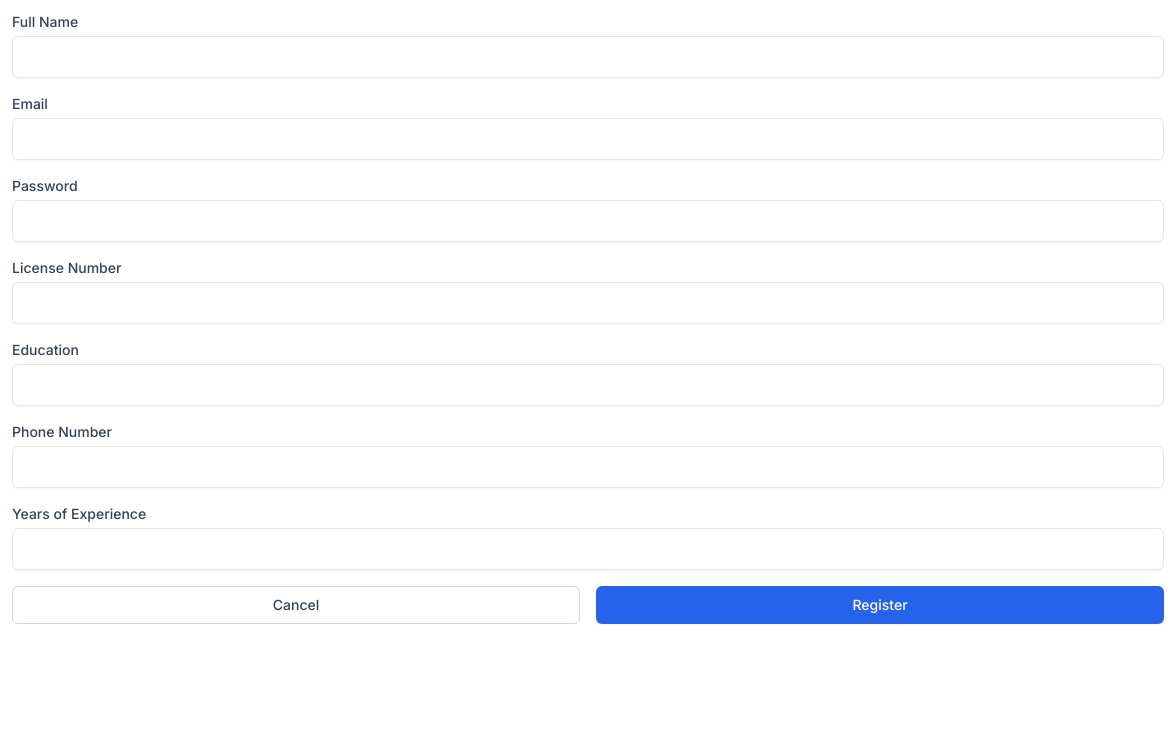
Test: PharmacistRegistrationForm › shows loading state during registration
# Fill in form data
Type "John Doe" into the field labelled "Full Name".
click(588, 57); type("John Doe")  # box [12,36,1164,78]
Type "john@example.com" into the field labelled "Email".
click(588, 139); type("john@example.com")  # box [12,118,1164,160]
Type "password123" into the password field labelled "Password".
click(588, 221); type("password123")  # box [12,200,1164,242]
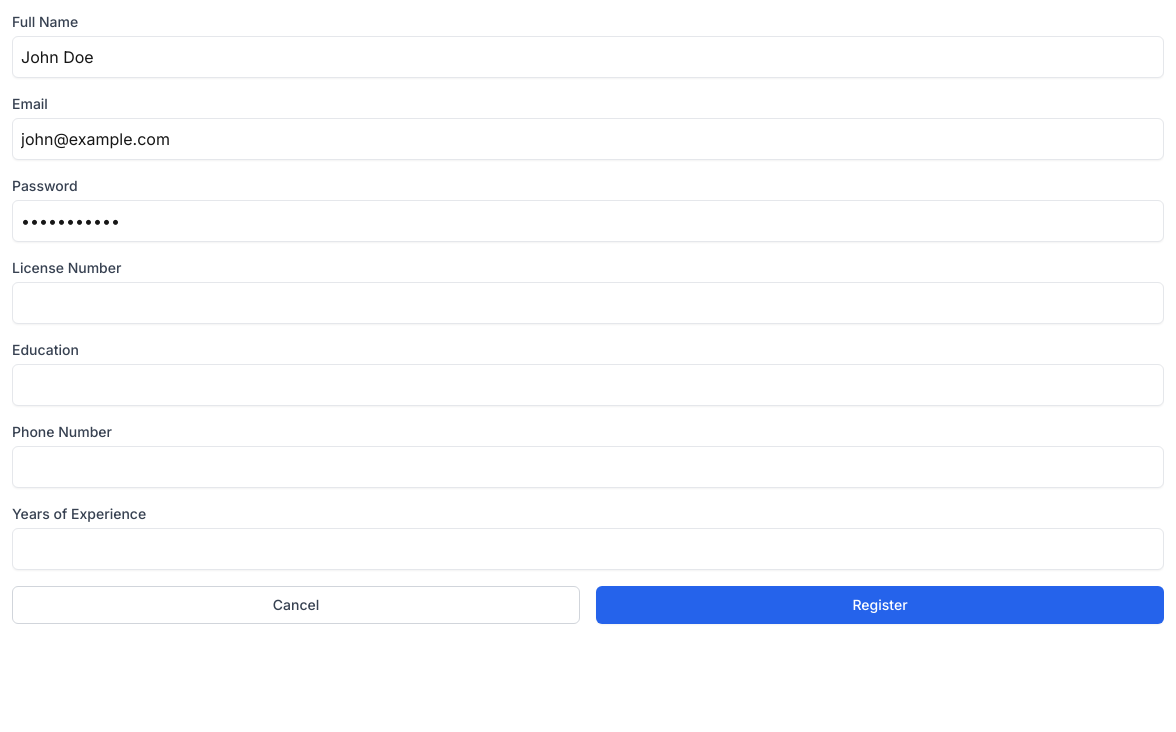
Type "LIC123" into the field labelled "License Number".
click(588, 303); type("LIC123")  # box [12,282,1164,324]
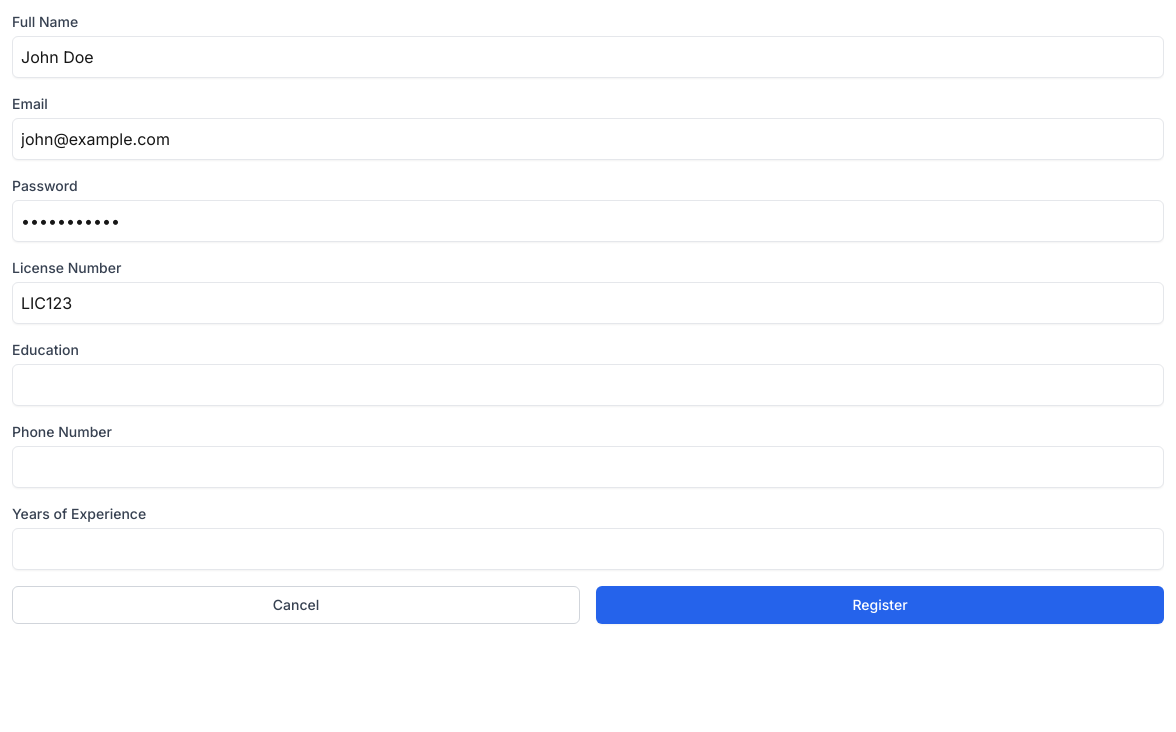
Type "PharmD" into the field labelled "Education".
click(588, 385); type("PharmD")  # box [12,364,1164,406]
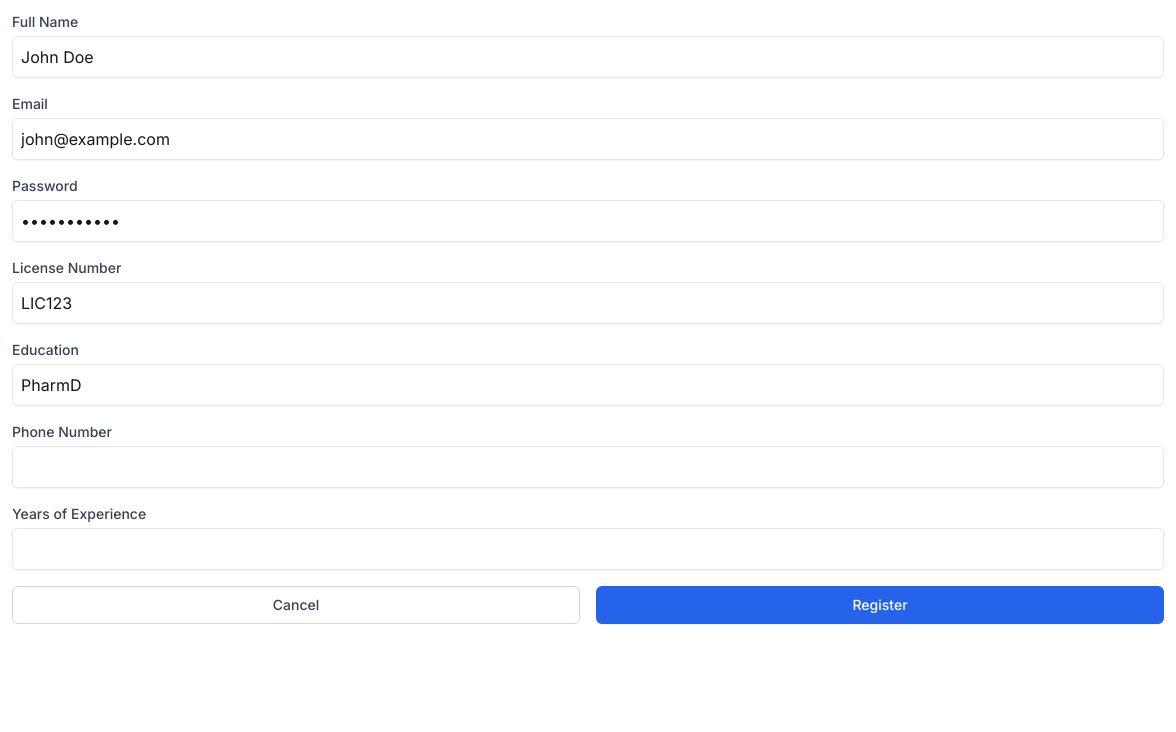
Type "1234567890" into the field labelled "Phone Number".
click(588, 467); type("1234567890")  # box [12,446,1164,488]
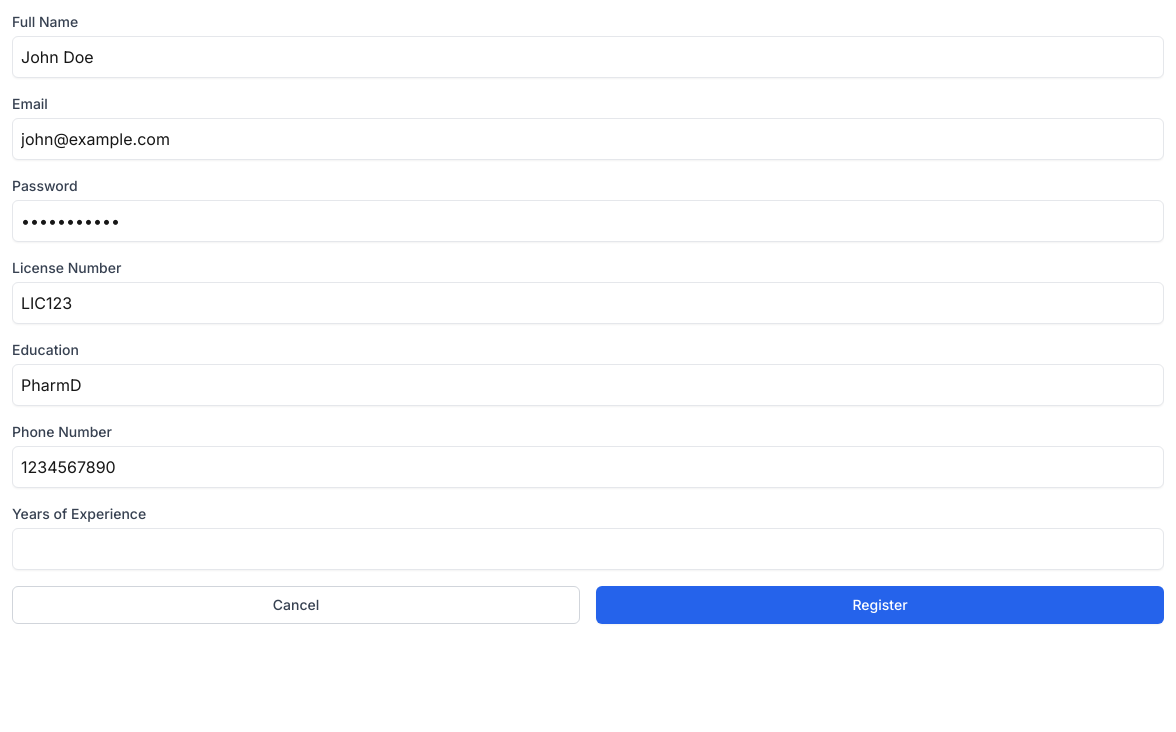
Type "5" into the number field labelled "Years of Experience".
click(588, 549); type("5")  # box [12,528,1164,570]
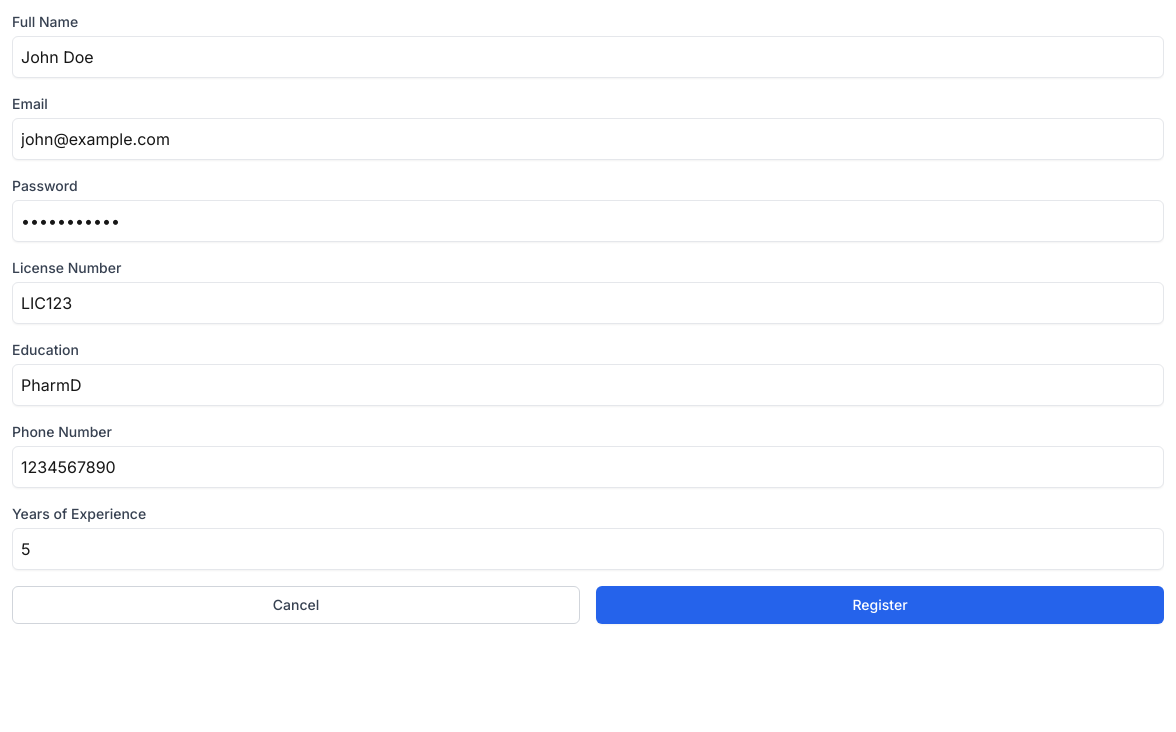
# Submit form
Click the button "Register".
click(880, 605)  # box [596,586,1164,624]
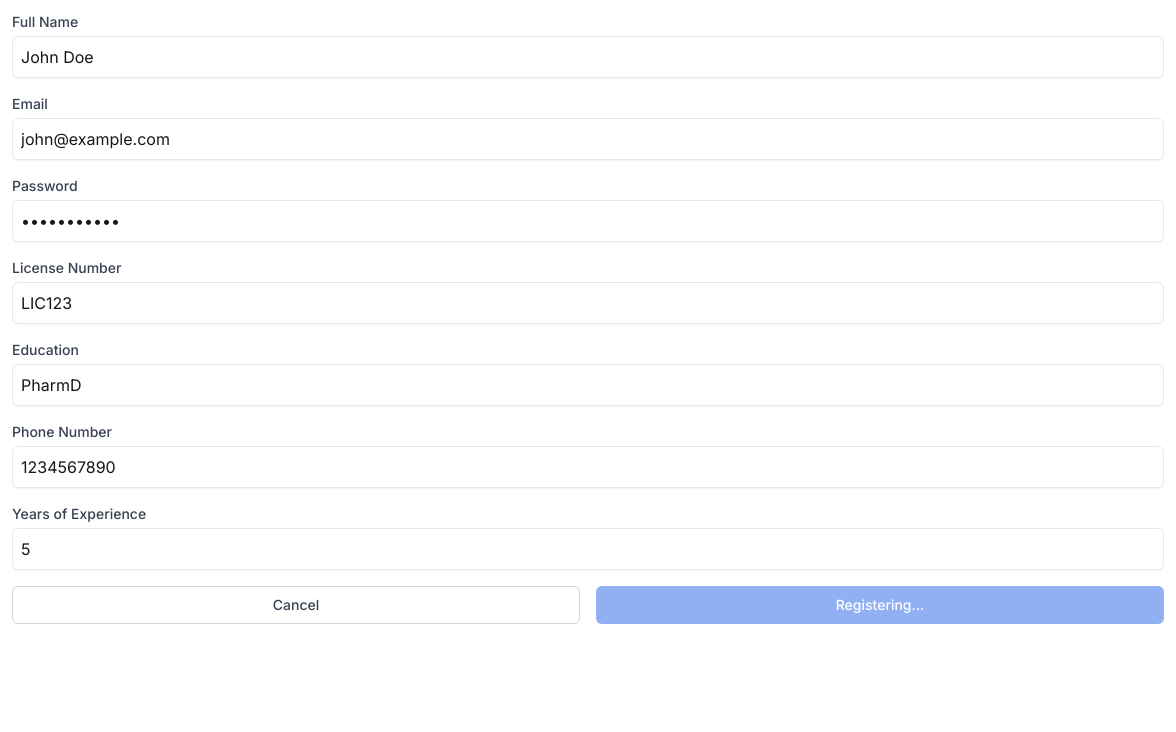
Result: the button "Registering..." is shown at [596,586,1164,624]
